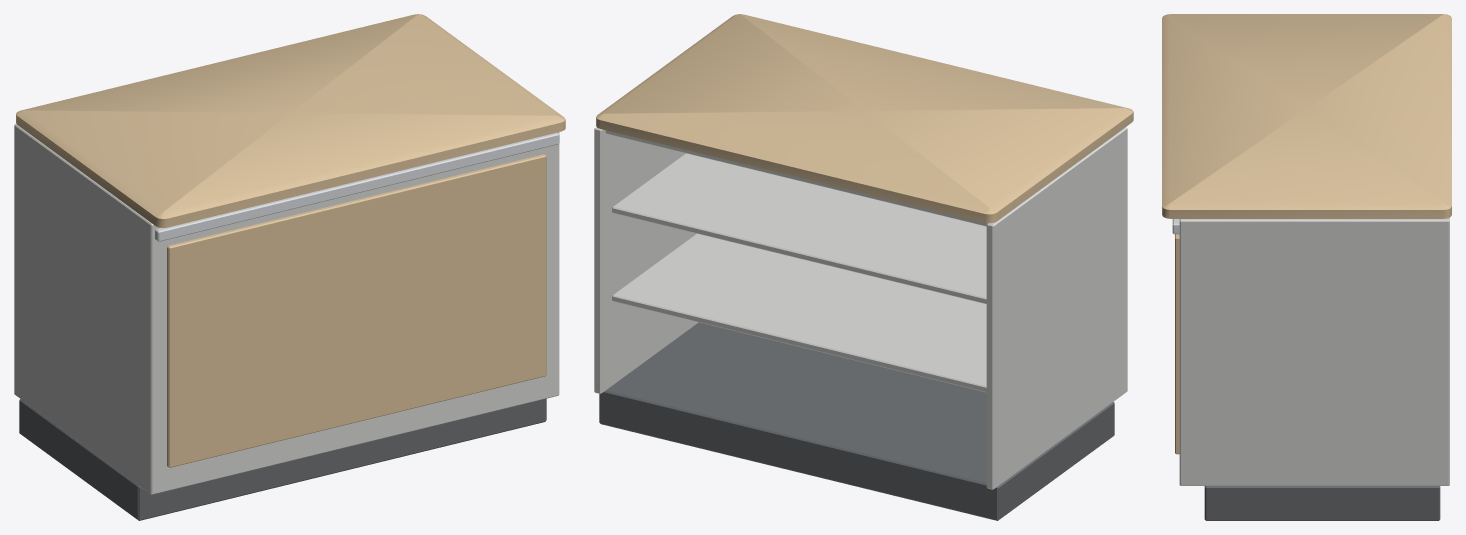
3 views of the same model, side by side, from view 1: azimuth 30°, elevation 25°; view 2: azimuth 150°, elevation 25°; view 3: azimuth 270°, elevation 25° (orthographic). The views are drawn at different scales.
Parts seen in each view (by area): view 1: trade-counter-module; view 2: trade-counter-module; view 3: trade-counter-module.
Part boxes in pixels (box(x1,y1,x2,y2)): trade-counter-module: box(14, 14, 565, 520); trade-counter-module: box(594, 14, 1133, 520); trade-counter-module: box(1162, 14, 1451, 520).
Bounding box in the file's own units: 1.2 × 0.9 × 0.7499.
